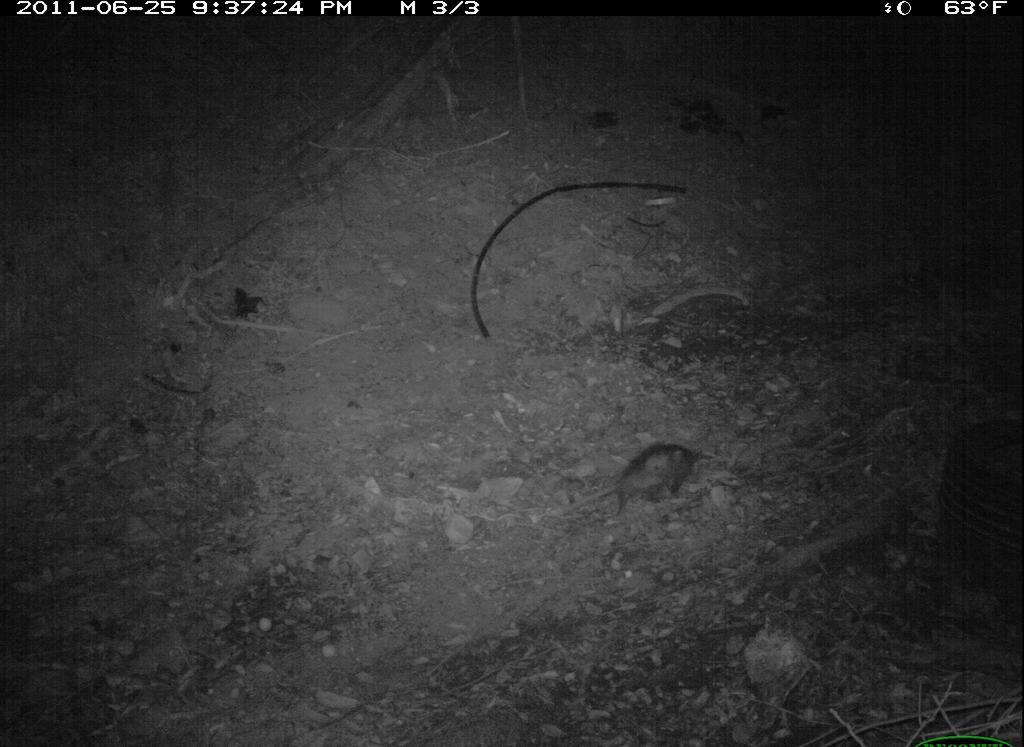opossum: (565, 440, 710, 530)
